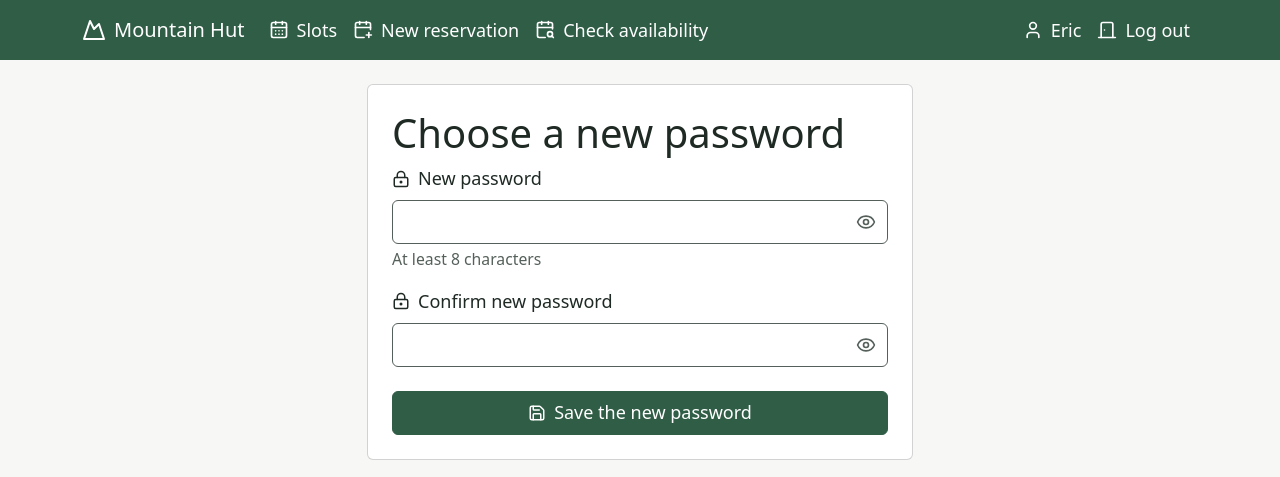
Test: ResetPasswordPage › success › another user logged in this browser stays logged in (only the link's user is logged out)
Expected: the text "Eric" is shown, [1023, 18, 1081, 42]
Type "my-own-secret-pw" into the password field labelled "New password".
click(640, 222); type("my-own-secret-pw")  # box [392, 200, 888, 244]
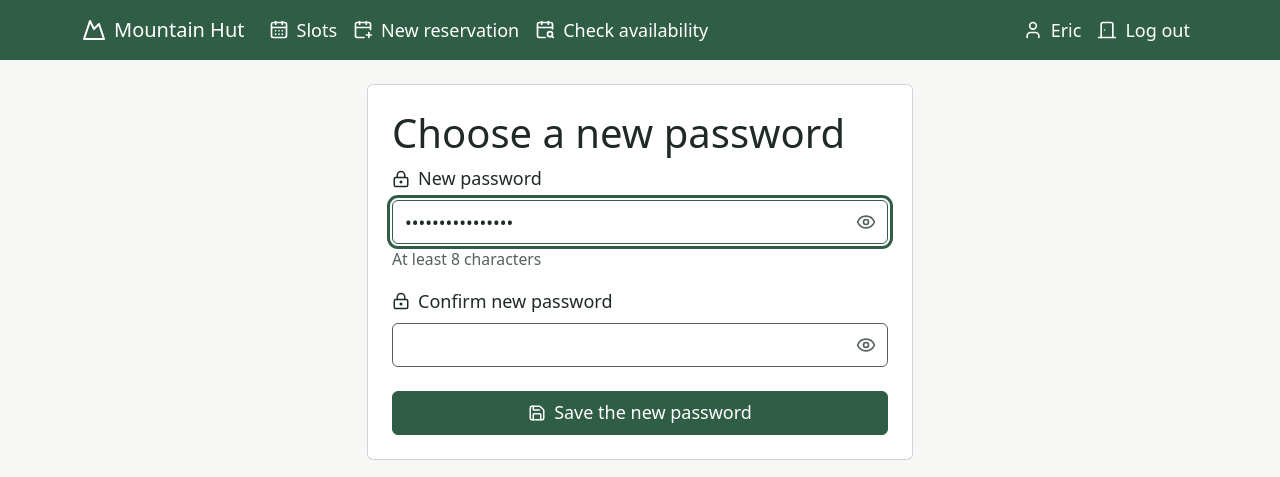
Type "my-own-secret-pw" into the password field labelled "Confirm new password".
click(640, 345); type("my-own-secret-pw")  # box [392, 323, 888, 367]
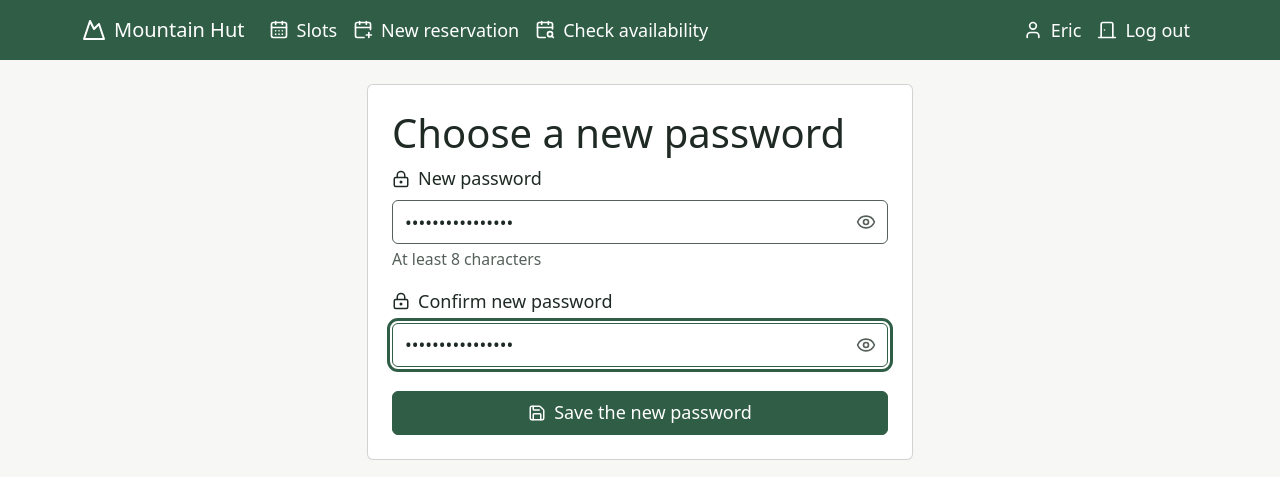
Click the button "Save the new password".
click(640, 413)  # box [392, 391, 888, 435]
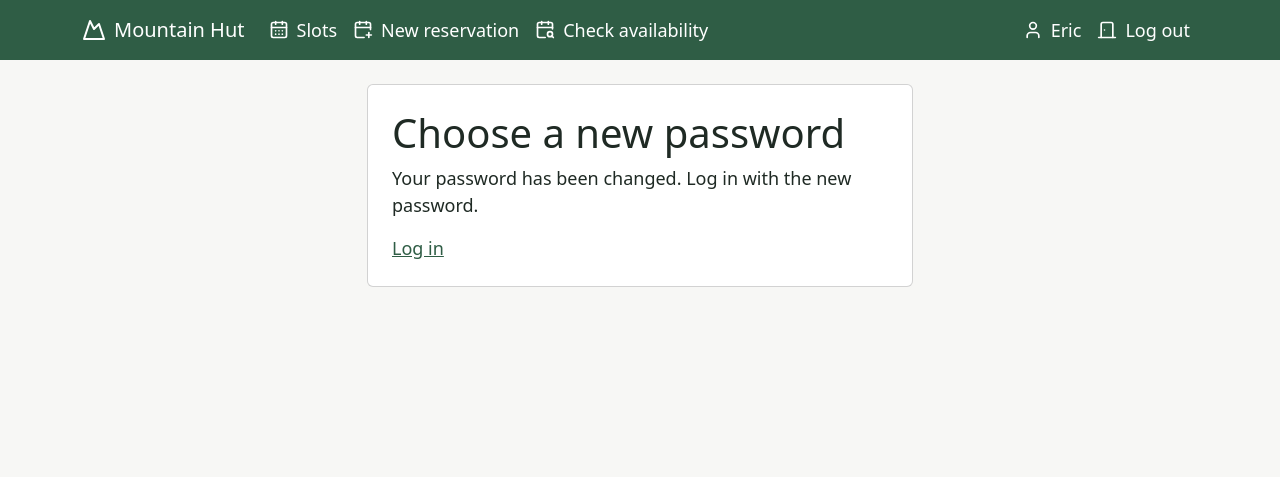
Expected: the text "Eric" is shown, [1023, 18, 1081, 42]
Result: the message shows "password has been changed" at [392, 166, 851, 217]
